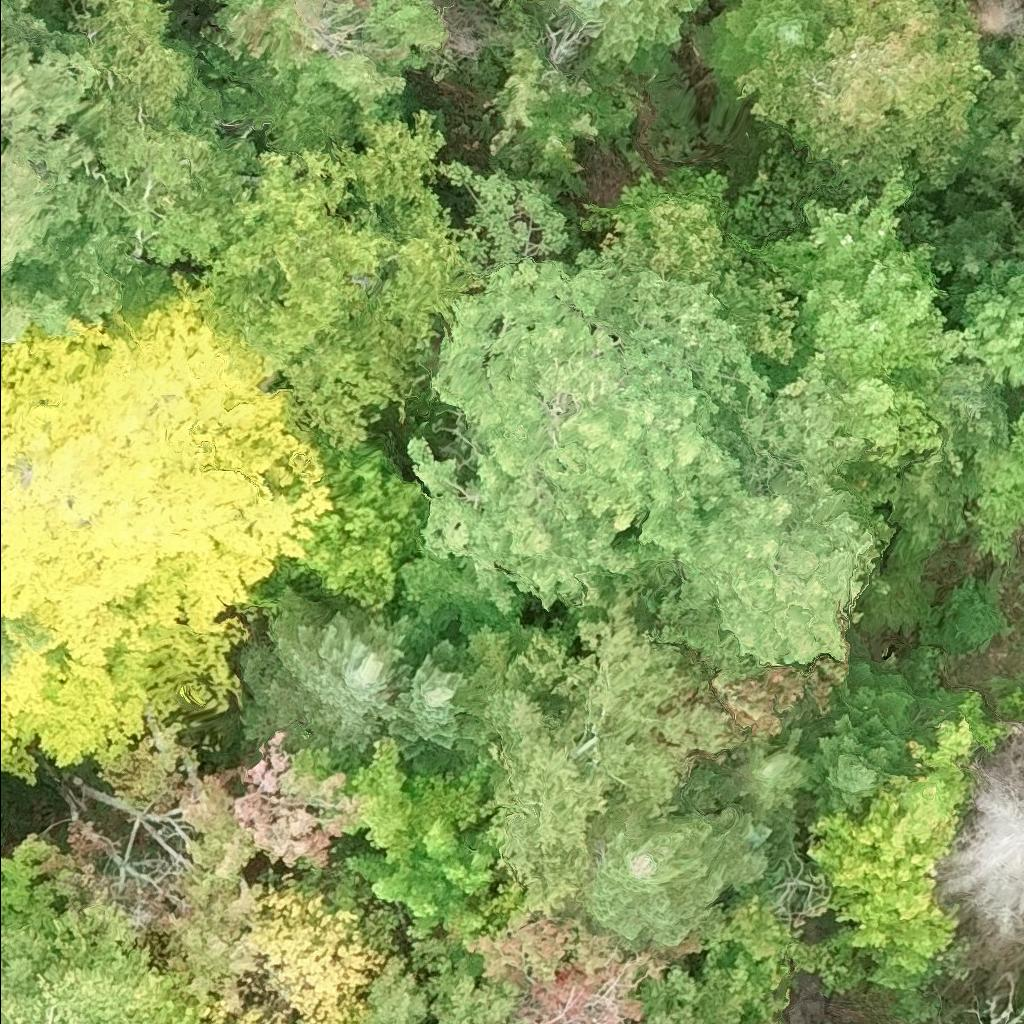crown: (402, 153, 775, 636), (0, 271, 337, 786), (200, 100, 477, 481), (638, 351, 893, 688), (57, 0, 263, 322), (749, 161, 964, 454), (805, 690, 1009, 997), (165, 729, 371, 1023), (734, 0, 997, 206), (460, 621, 614, 940), (552, 581, 752, 824), (573, 760, 817, 949), (294, 735, 500, 938), (198, 0, 455, 148), (0, 0, 101, 340), (238, 584, 419, 760), (223, 856, 409, 1023), (810, 632, 968, 818), (463, 909, 709, 1023), (0, 899, 209, 1023), (291, 443, 424, 616), (697, 890, 866, 1023), (935, 719, 1023, 959), (381, 624, 490, 774), (687, 0, 829, 108), (558, 0, 725, 74), (936, 256, 1023, 388), (701, 659, 852, 734), (732, 711, 824, 823), (961, 410, 1023, 570), (0, 832, 78, 926), (967, 972, 1023, 1023), (974, 0, 1023, 41), (221, 993, 274, 1023), (475, 0, 564, 13), (1009, 82, 1023, 146), (1012, 25, 1023, 82), (1012, 167, 1023, 203), (1010, 228, 1023, 258), (740, 1023, 746, 1023)
